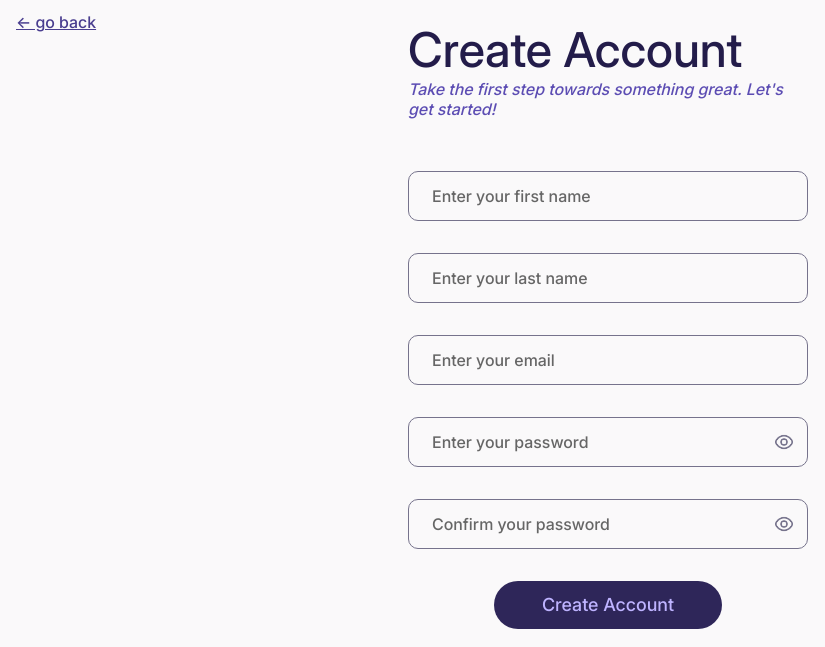
it: Create Account Page › should toggle password visibility
This screenshot has width=825, height=647.
Type "Password123!" into the password field with test id "password_text_input".
click(608, 442); type("Password123!")  # box [408,417,808,467]
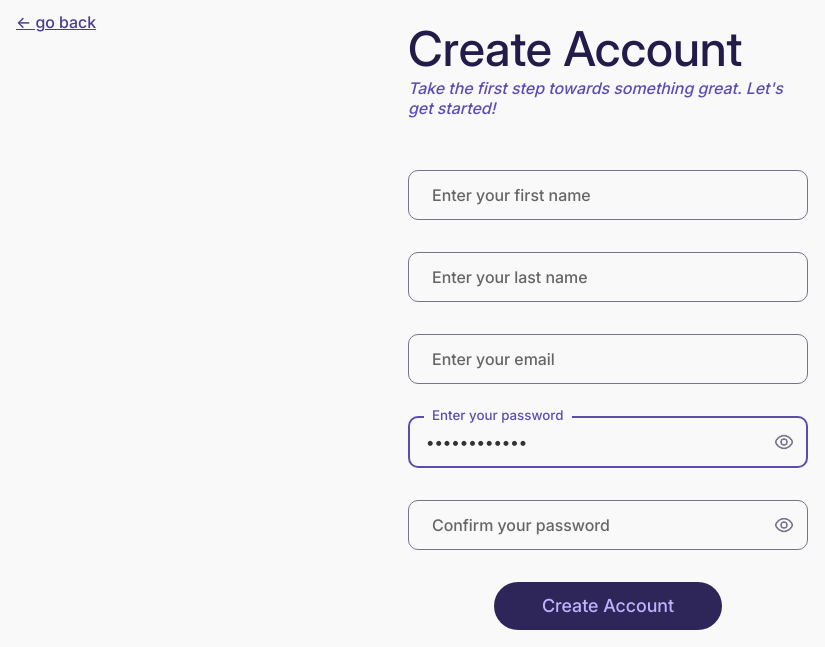
Click the picture with class "toggle_password_icon" below "Enter your password".
click(784, 442)  # box [775,433,793,451]
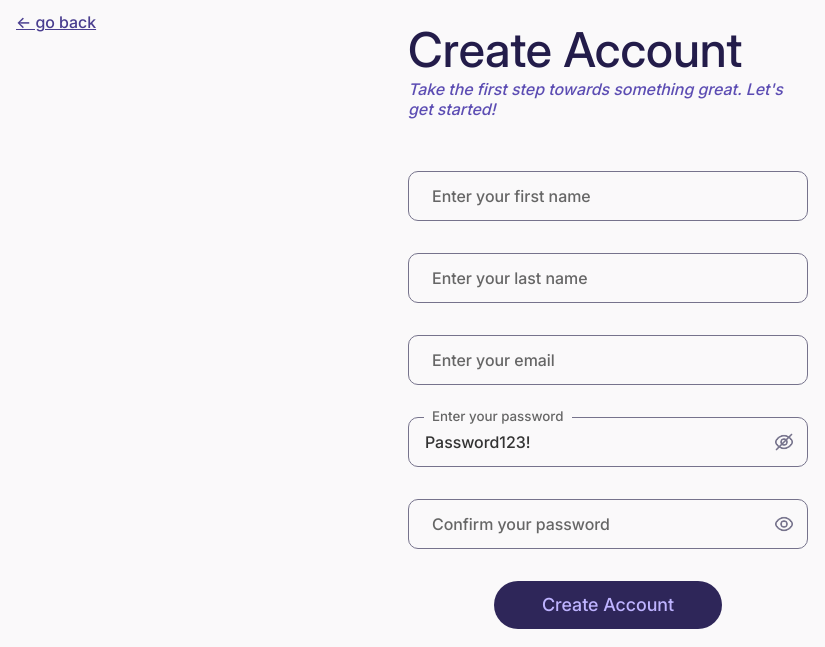
Result: the field with test id "password_text_input" shows its text at [408,417,808,467]
